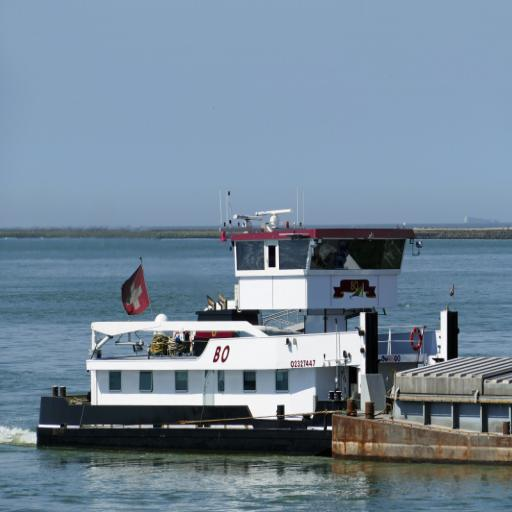tugboat: (34, 202, 463, 463)
